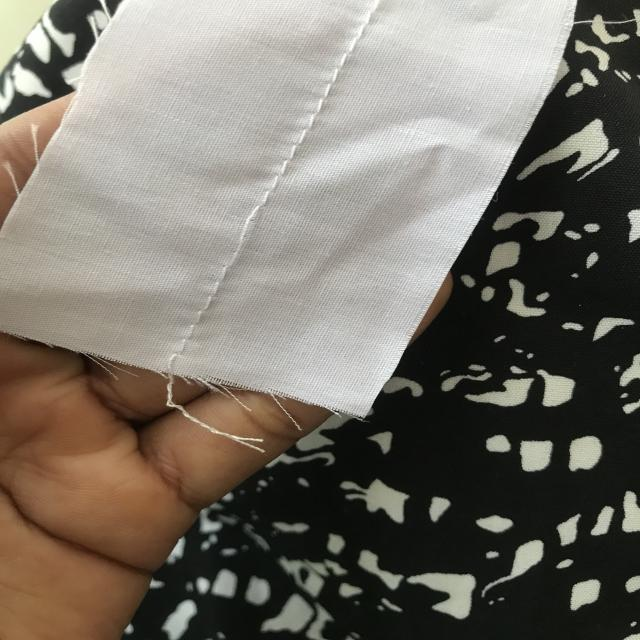skip: (226, 188, 284, 286)
